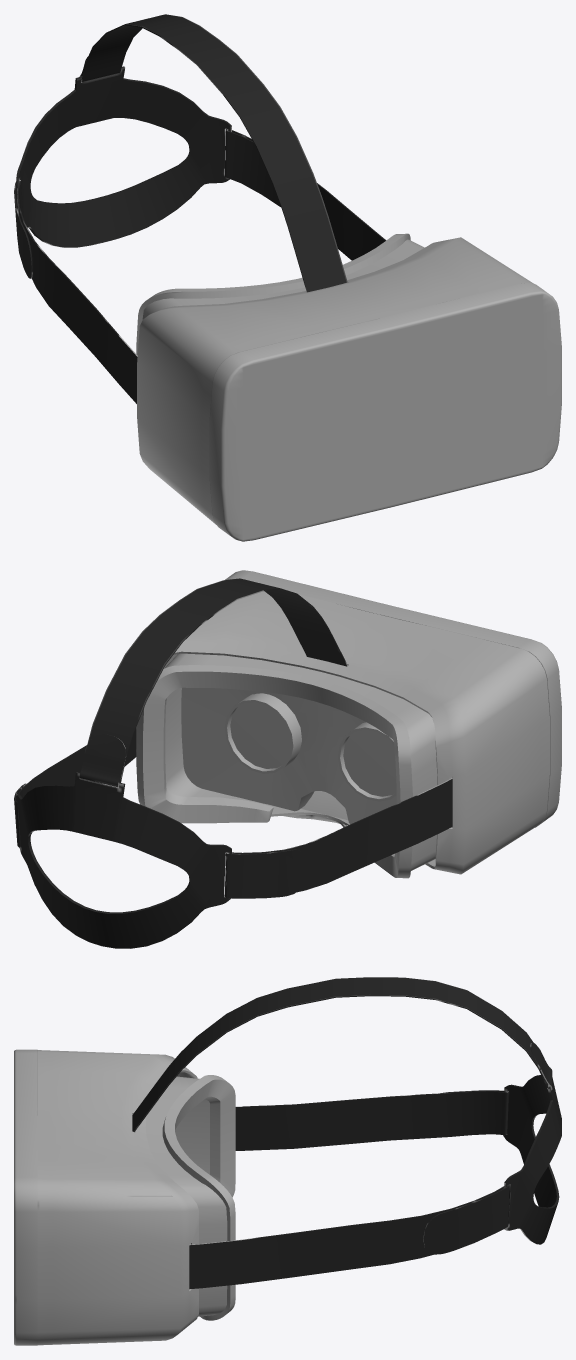
The picture shows the model from 3 angles, top to bottom: view 1: azimuth 30°, elevation 25°; view 2: azimuth 150°, elevation 25°; view 3: azimuth 270°, elevation 25°; orthographic projection. The views are drawn at different scales.
Parts seen in each view (by area): view 1: vr.001; view 2: vr.001; view 3: vr.001.
Part boxes in pixels (bbox=[...]): vr.001: bbox=[14, 14, 561, 541]; vr.001: bbox=[14, 570, 561, 948]; vr.001: bbox=[14, 977, 561, 1345].
Bounding box in the file's own units: 1.31 × 1.18 × 2.
Materials: 1 (1 with a texture image).
